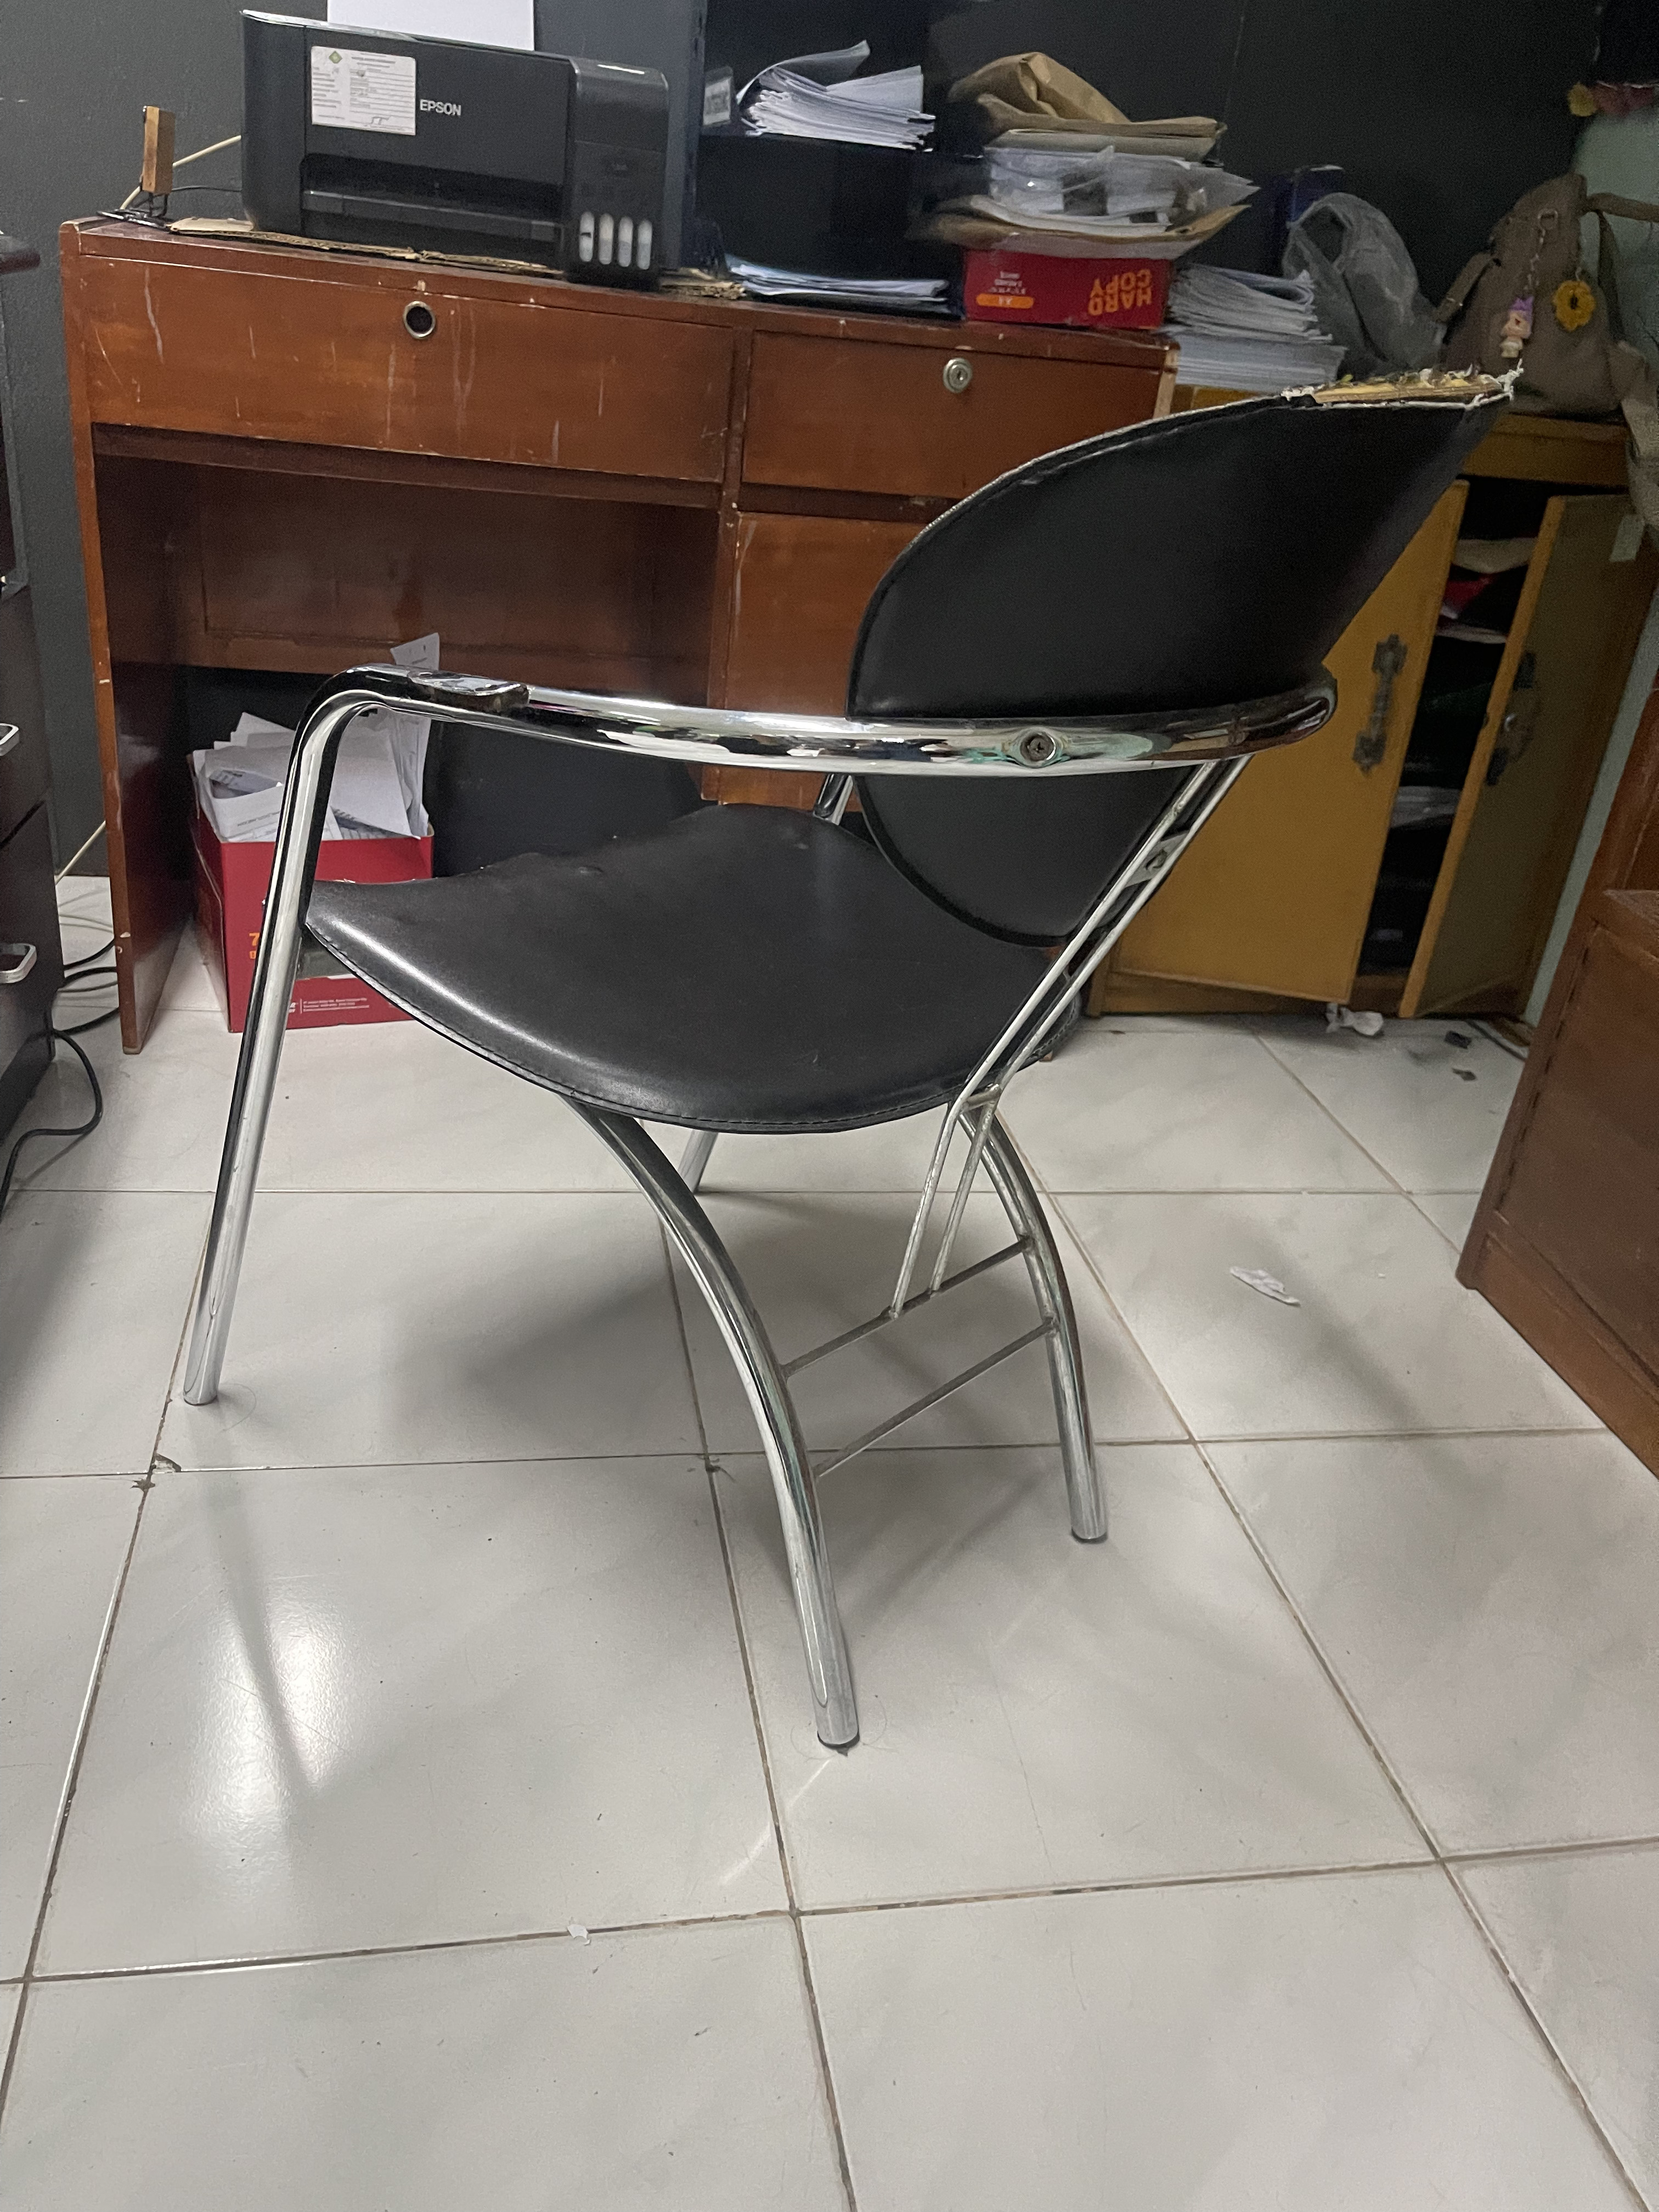chair1: (178, 364, 1518, 1777)
